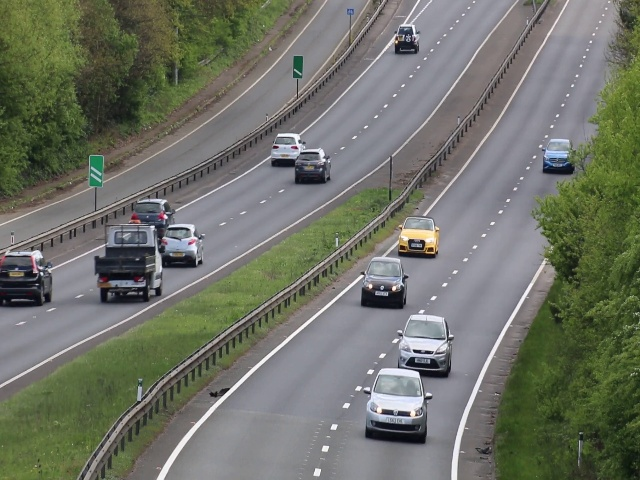car: (95, 224, 163, 305), (366, 366, 429, 447), (399, 313, 453, 376), (1, 249, 55, 307), (358, 255, 407, 308), (162, 223, 203, 267), (397, 217, 441, 257), (133, 199, 177, 233), (268, 131, 307, 167), (294, 149, 333, 184), (542, 136, 575, 174), (394, 23, 421, 55)
